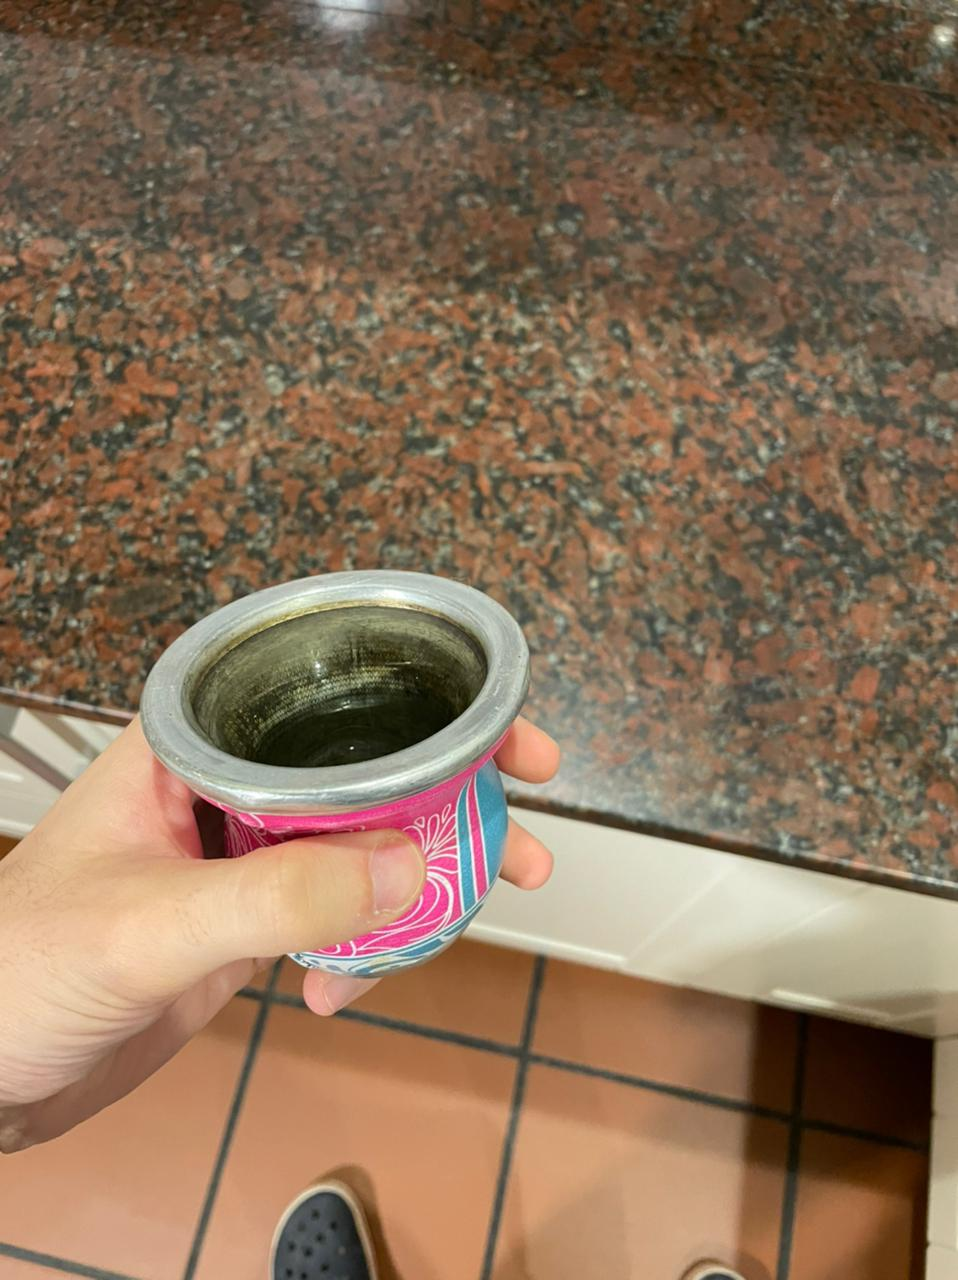mate: (132, 557, 539, 991)
plastico: (130, 555, 537, 989)
